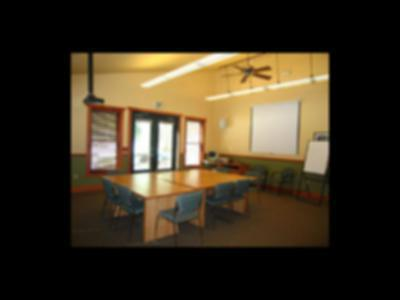Puerta: (133, 114, 175, 169)
